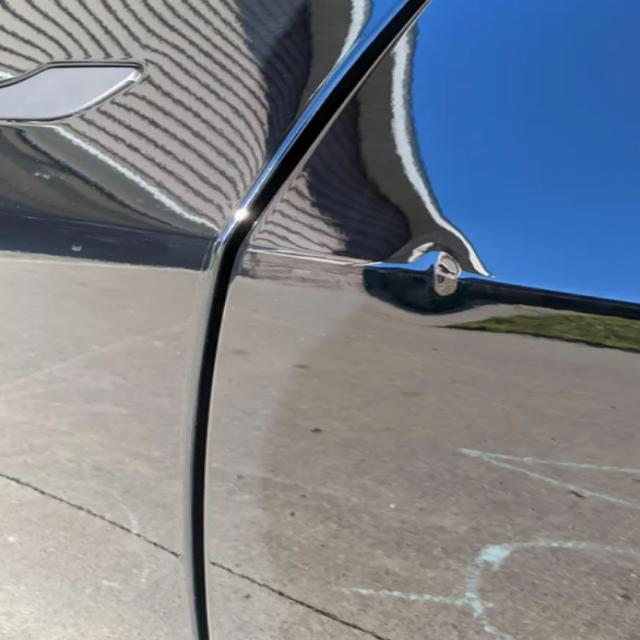dents: (347, 204, 556, 344)
